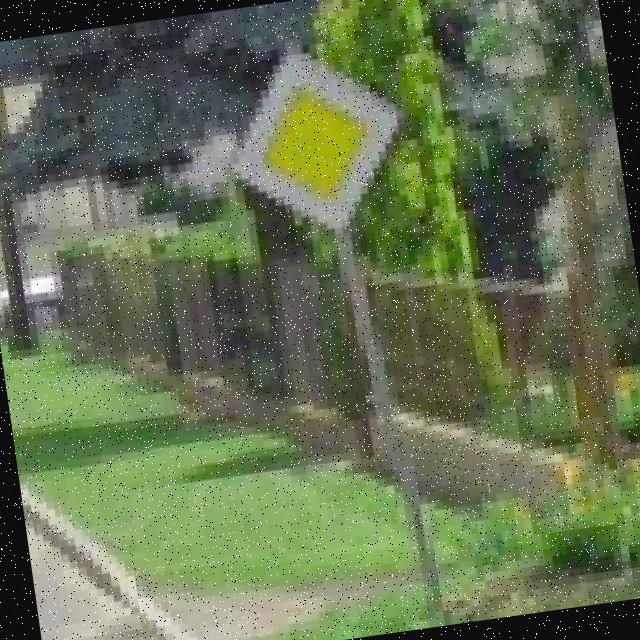Droga z pierwszenstwem: (212, 33, 416, 250)
